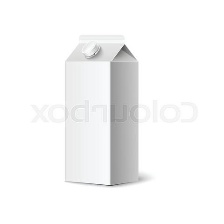carton: (58, 27, 142, 188)
